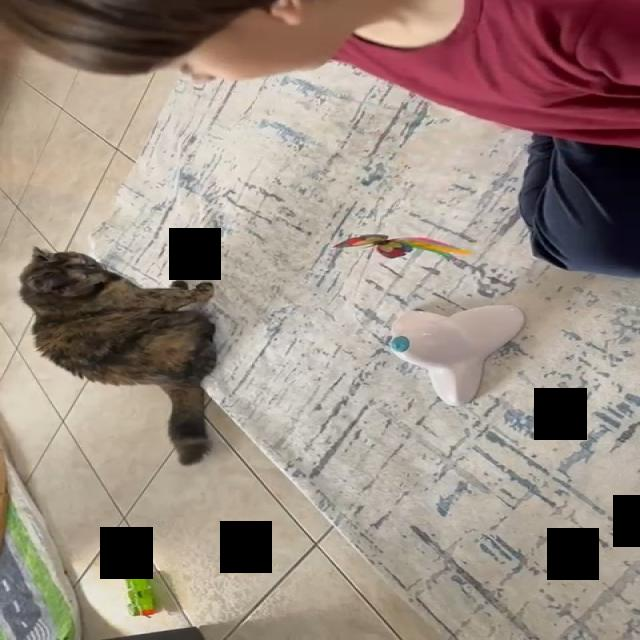authorized: (17, 245, 219, 466)
